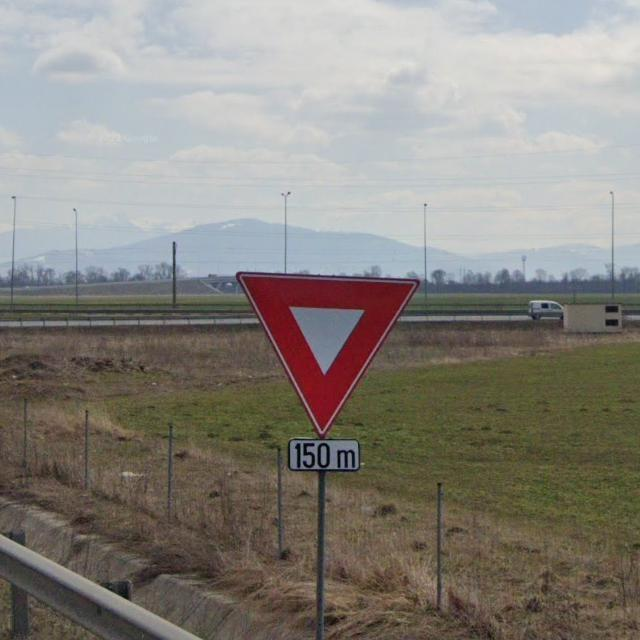prio_give_way: (232, 272, 418, 430)
